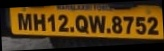character: (88, 14, 106, 33), (17, 12, 33, 31), (74, 14, 89, 33), (146, 16, 159, 35), (122, 14, 134, 34), (33, 12, 46, 30), (57, 13, 69, 32), (111, 15, 123, 33), (135, 16, 146, 34), (46, 13, 56, 32)
